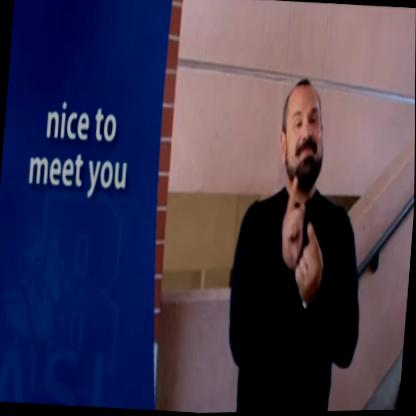NiceToMeetYou: (254, 156, 350, 338)
